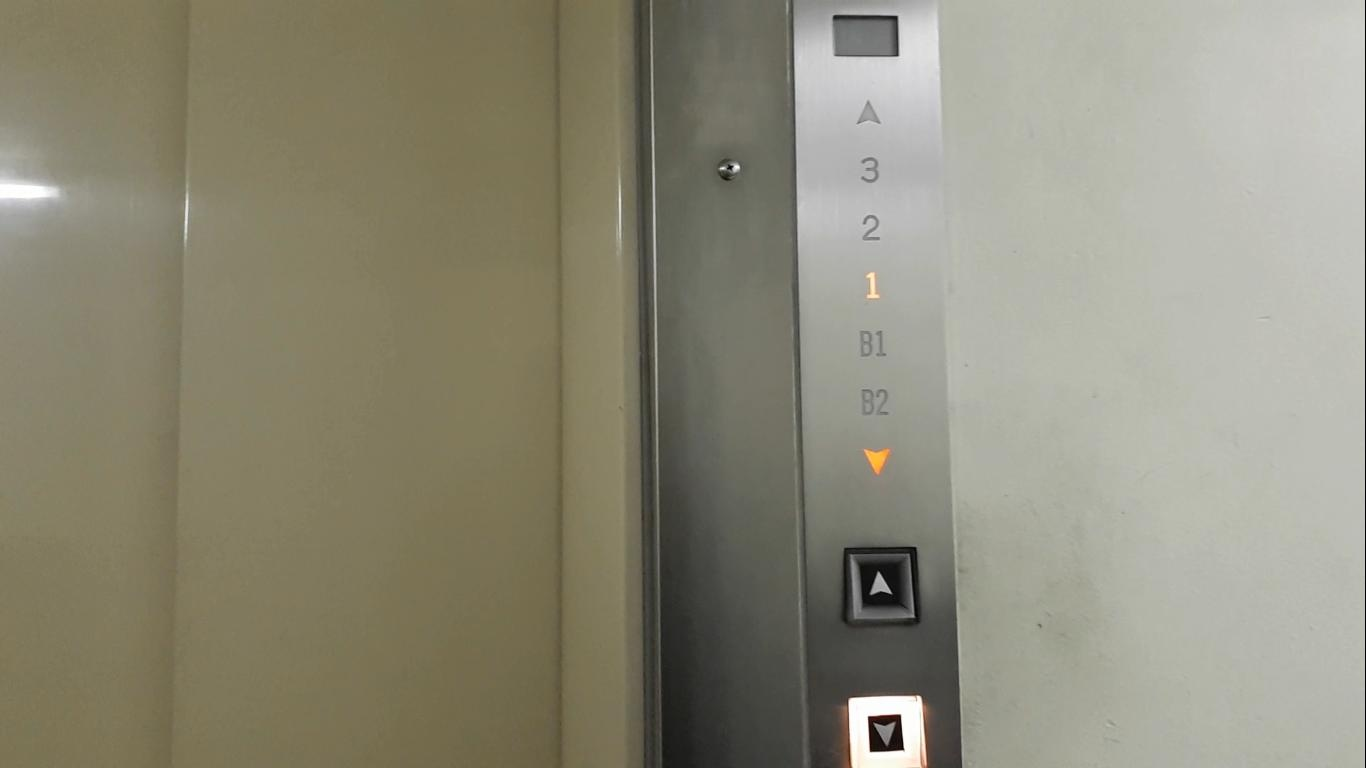down: (847, 696, 922, 768)
up: (845, 548, 919, 624)
